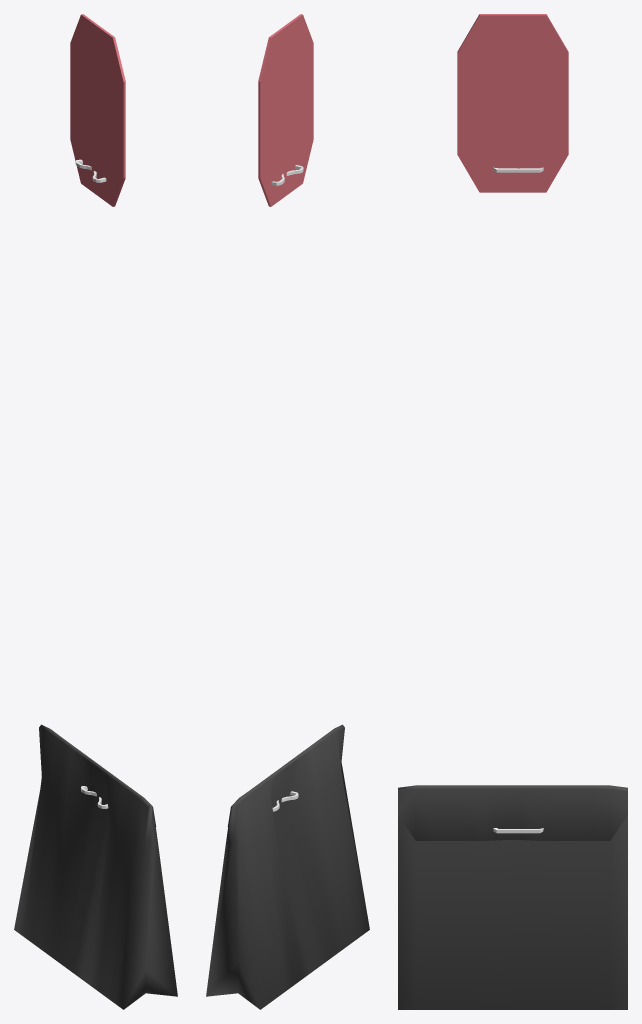
File: tea bag.fbx
3 renders of one model, left to right at view 1: azimuth 30°, elevation 25°; view 2: azimuth 150°, elevation 25°; view 3: azimuth 270°, elevation 25°, orthographic. The views are drawn at different scales.
Visible parts, largest first — view 1: teabag, tag; view 2: teabag, tag; view 3: teabag, tag.
Boxes of the visible parts, bbox=[...] form: teabag: bbox=[14, 724, 177, 1009]; tag: bbox=[70, 14, 125, 206]; teabag: bbox=[206, 724, 369, 1009]; tag: bbox=[258, 14, 313, 206]; teabag: bbox=[398, 785, 627, 1009]; tag: bbox=[457, 14, 568, 192].
Bounding box in the file's own units: 57.3 × 943 × 200.
